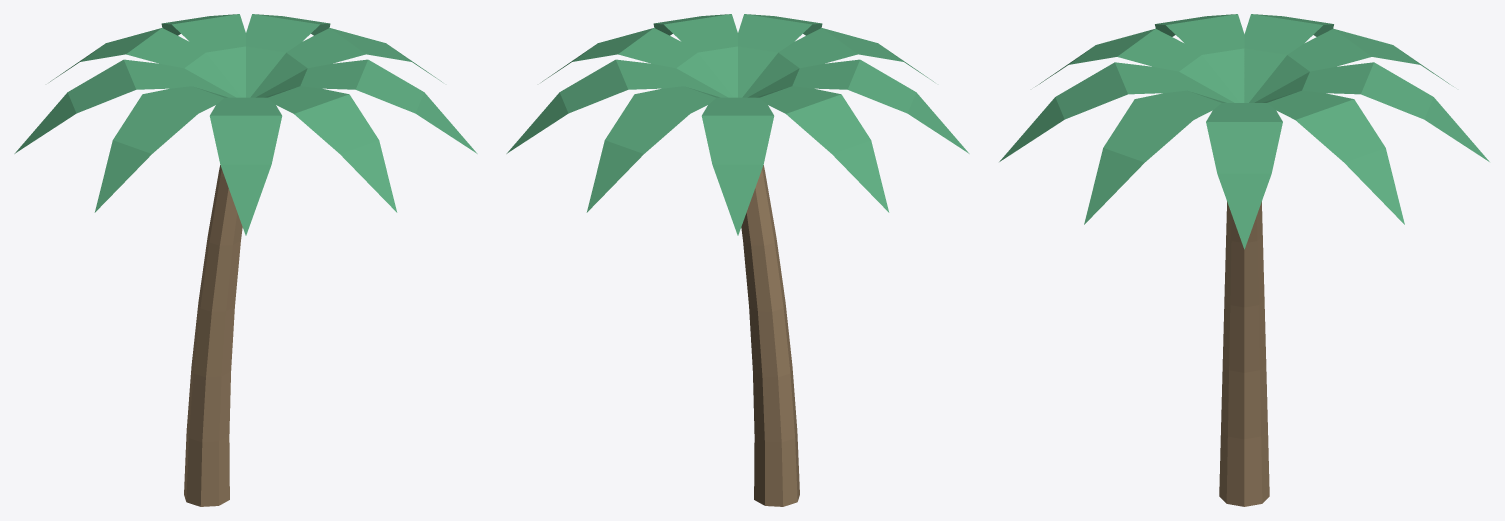
File: palm.glb
3 views of the same model, side by side, from view 1: azimuth 30°, elevation 25°; view 2: azimuth 150°, elevation 25°; view 3: azimuth 270°, elevation 25° (orthographic). The views are drawn at different scales.
Visible parts, largest first — view 1: PalmLeafParts, PalmBarkParts; view 2: PalmLeafParts, PalmBarkParts; view 3: PalmLeafParts, PalmBarkParts.
Boxes of the visible parts, x1,y1,x2,y2 form: PalmLeafParts: [14, 14, 477, 235]; PalmBarkParts: [184, 165, 242, 506]; PalmLeafParts: [506, 14, 969, 235]; PalmBarkParts: [741, 165, 799, 506]; PalmLeafParts: [999, 14, 1489, 249]; PalmBarkParts: [1219, 201, 1269, 506].
Size of the model in its own units: 3.65 by 3.71 by 3.7.
